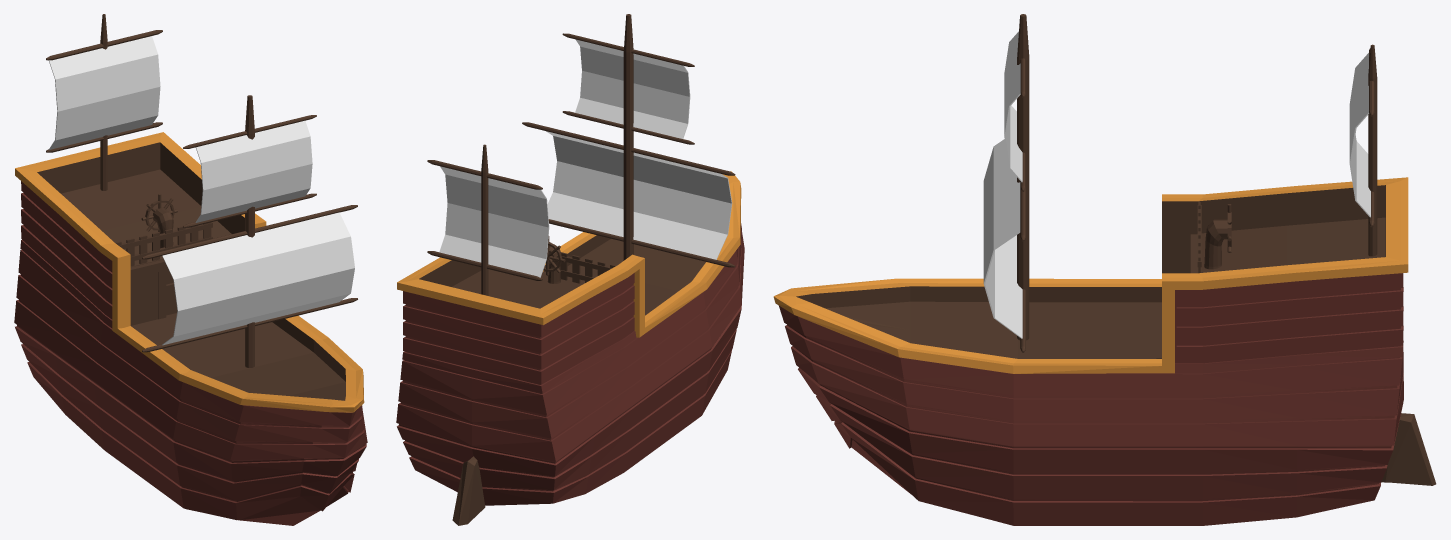
File: ship_V1.fbx
3 views of the same model, side by side, from view 1: azimuth 30°, elevation 25°; view 2: azimuth 150°, elevation 25°; view 3: azimuth 270°, elevation 25° (orthographic). The views are drawn at different scales.
Parts seen in each view (by area): view 1: Cube; view 2: Cube; view 3: Cube.
Part boxes in pixels (bbox=[...]): Cube: bbox=[14, 14, 367, 525]; Cube: bbox=[396, 14, 744, 525]; Cube: bbox=[773, 14, 1436, 525].
Bounding box in the file's own units: 3.15 × 5.77 × 7.02.
